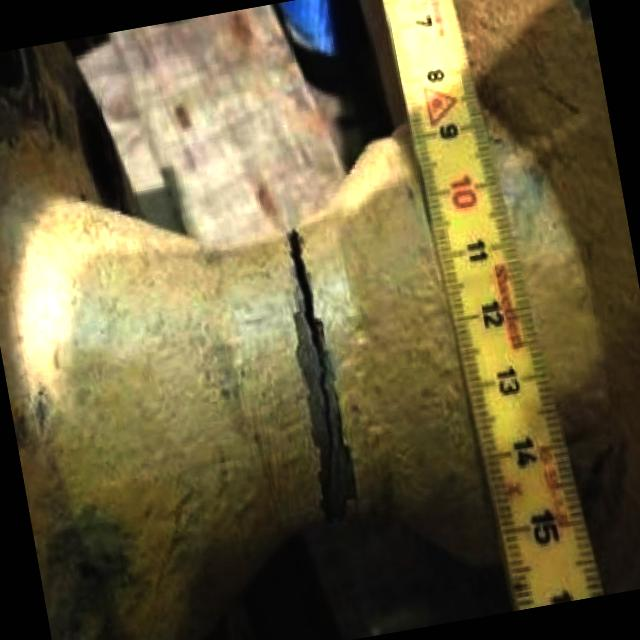crack: (284, 227, 346, 472)
